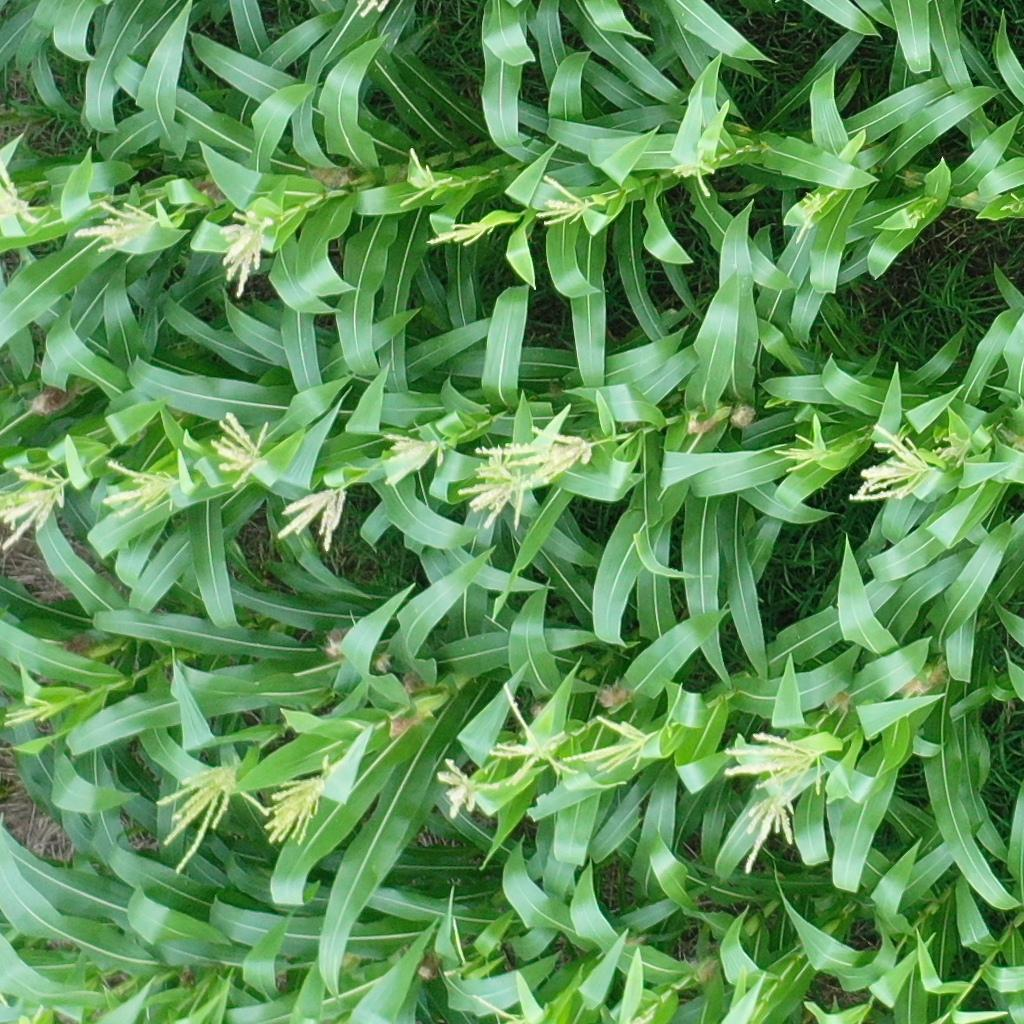Tassel: (142, 758, 271, 877), (452, 424, 591, 534), (487, 677, 578, 790), (713, 726, 827, 797), (65, 192, 173, 264), (846, 421, 933, 502), (1, 457, 74, 550), (267, 751, 335, 849), (90, 453, 185, 515), (561, 715, 660, 774), (213, 208, 276, 297), (736, 788, 798, 877), (202, 411, 270, 488), (425, 752, 503, 819), (275, 482, 349, 550), (665, 133, 728, 202), (532, 165, 595, 233), (393, 146, 459, 208), (1, 155, 52, 233), (380, 429, 445, 485), (781, 184, 837, 247), (424, 215, 500, 254), (767, 431, 834, 473), (1, 687, 53, 729), (934, 429, 974, 472)
